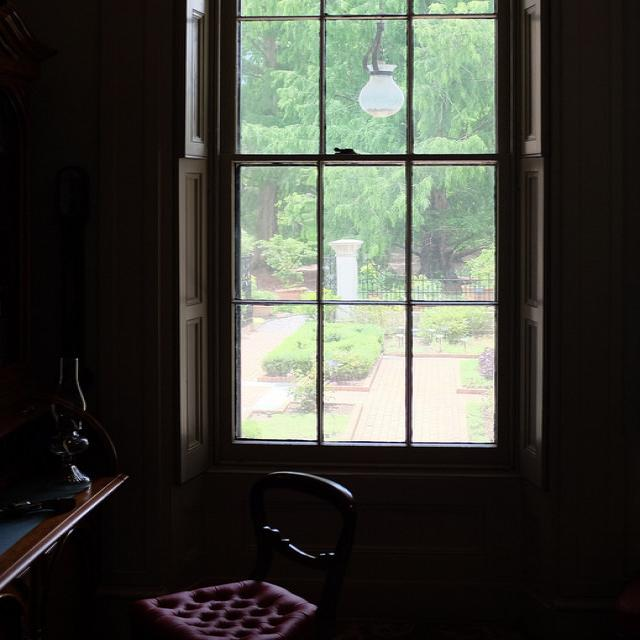Table: (0, 451, 157, 640)
chair: (139, 469, 380, 640), (19, 383, 129, 498)
